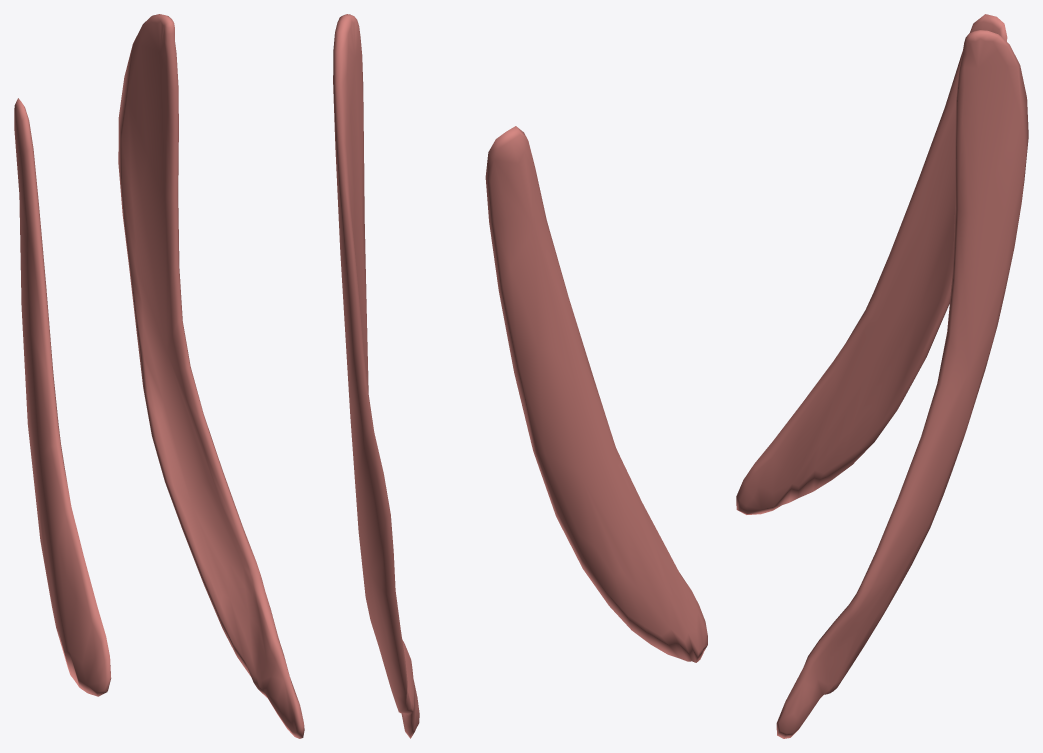
3 renders of one model, left to right at view 1: azimuth 30°, elevation 25°; view 2: azimuth 150°, elevation 25°; view 3: azimuth 270°, elevation 25°, orthographic. The views are drawn at different scales.
Visible parts, largest first — view 1: ZA_cfd6551047d6d584; view 2: ZA_cfd6551047d6d584; view 3: ZA_cfd6551047d6d584.
Boxes of the visible parts, x1=… form: ZA_cfd6551047d6d584: x1=14, y1=14, x2=304, y2=738; ZA_cfd6551047d6d584: x1=333, y1=14, x2=707, y2=738; ZA_cfd6551047d6d584: x1=736, y1=14, x2=1028, y2=738.
Size of the model in its own units: 0.0108 by 0.0295 by 0.0114.
